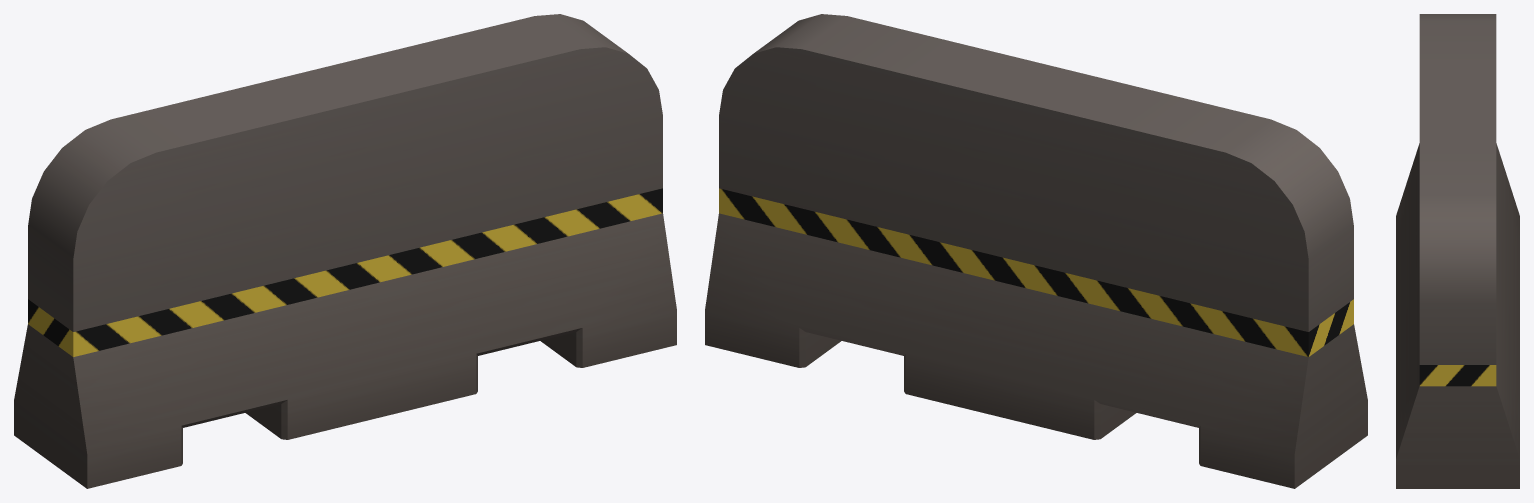
File: Concrete_Barrier.glb
3 views of the same model, side by side, from view 1: azimuth 30°, elevation 25°; view 2: azimuth 150°, elevation 25°; view 3: azimuth 270°, elevation 25° (orthographic). The views are drawn at different scales.
Visible parts, largest first — view 1: concrete_barrier; view 2: concrete_barrier; view 3: concrete_barrier.
Boxes of the visible parts, box(x1,y1,x2,y2) form: concrete_barrier: box(14, 14, 676, 488); concrete_barrier: box(705, 14, 1367, 488); concrete_barrier: box(1396, 14, 1519, 488).
Size of the model in its own units: 1.61 by 0.8 by 0.3467.
1 material, 1 textured.
